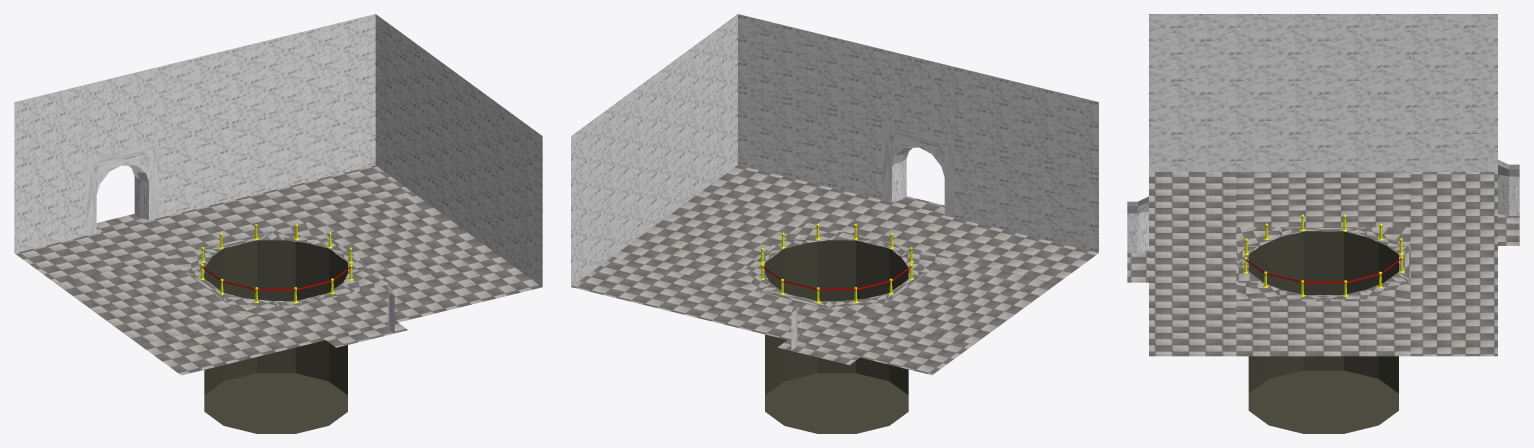
The model's file is Room12.glb.
3 views of the same model, side by side, from view 1: azimuth 30°, elevation 25°; view 2: azimuth 150°, elevation 25°; view 3: azimuth 270°, elevation 25° (orthographic). The views are drawn at different scales.
Parts seen in each view (by area): view 1: Walls.001, FloorFloor, Hole, Stanchions; view 2: Walls.001, FloorFloor, Hole, Stanchions; view 3: FloorFloor, Walls.001, Hole, Stanchions.
Part boxes in pixels (left/top/right/bottom): Walls.001: left=14, top=14, right=542, bottom=333; FloorFloor: left=15, top=165, right=541, bottom=375; Hole: left=204, top=240, right=347, bottom=433; Stanchions: left=200, top=224, right=353, bottom=302; Walls.001: left=571, top=14, right=1098, bottom=350; FloorFloor: left=571, top=165, right=1098, bottom=374; Hole: left=765, top=240, right=908, bottom=433; Stanchions: left=760, top=224, right=913, bottom=302; FloorFloor: left=1127, top=172, right=1519, bottom=356; Walls.001: left=1127, top=14, right=1519, bottom=252; Hole: left=1248, top=231, right=1398, bottom=433; Stanchions: left=1243, top=214, right=1404, bottom=296.
Bounding box in the file's own units: 10 × 7.52 × 9.
Materials: 6 (3 with a texture image).
